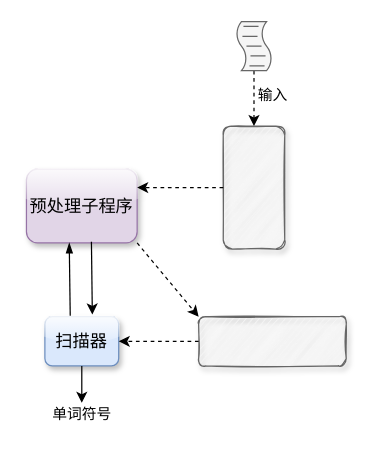
Image size: 375x449. Some labels were removed from this diagram. Here are the shapes that lost their labels. From the top down, the centre of each, then its label:
At pixel 254 189: "输入缓冲区".
At pixel 273 343: "扫描缓冲区".
